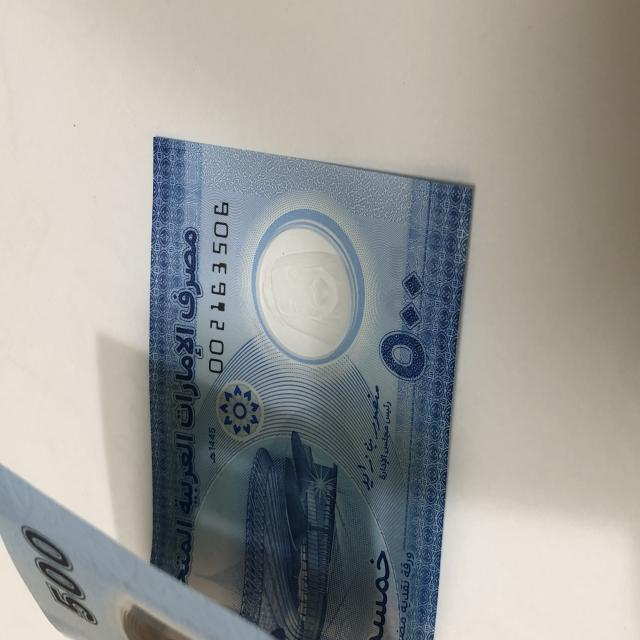500_AED: (2, 137, 475, 639)
